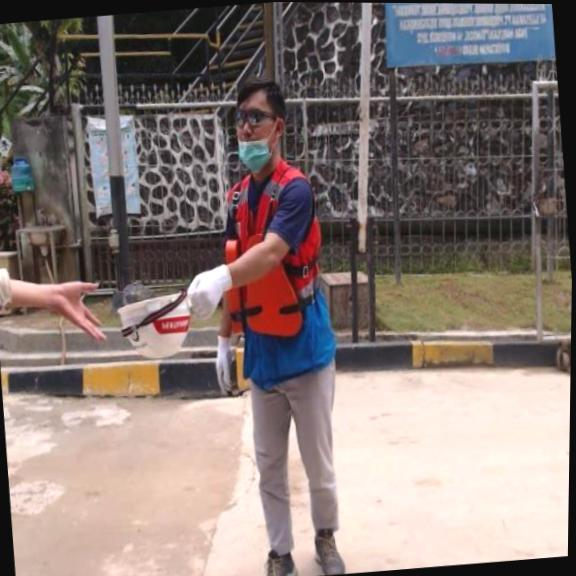safety_vest: (220, 231, 305, 345)
